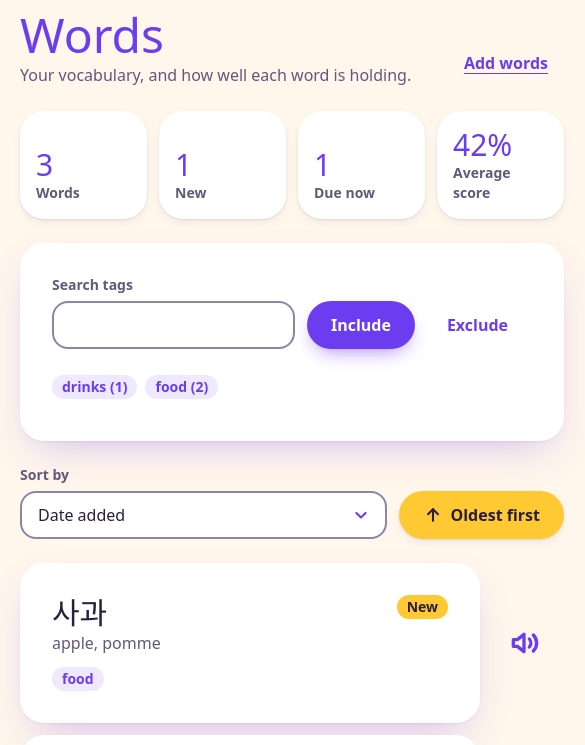
Test case: a search matching no tag says so
Type "verb" into the field labelled "Search tags" at {"x": 174, "y": 325}, box [52,301,295,349]
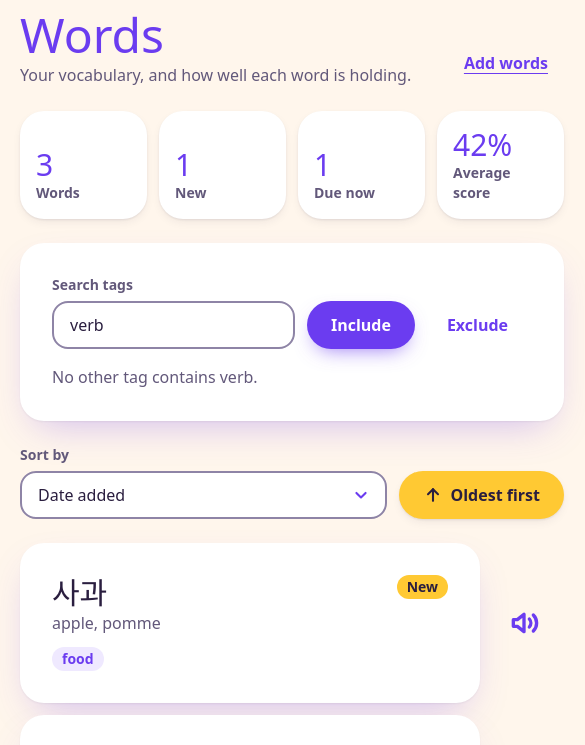
Check: the text "No other tag contains verb." is shown, box [52,366,258,388]
